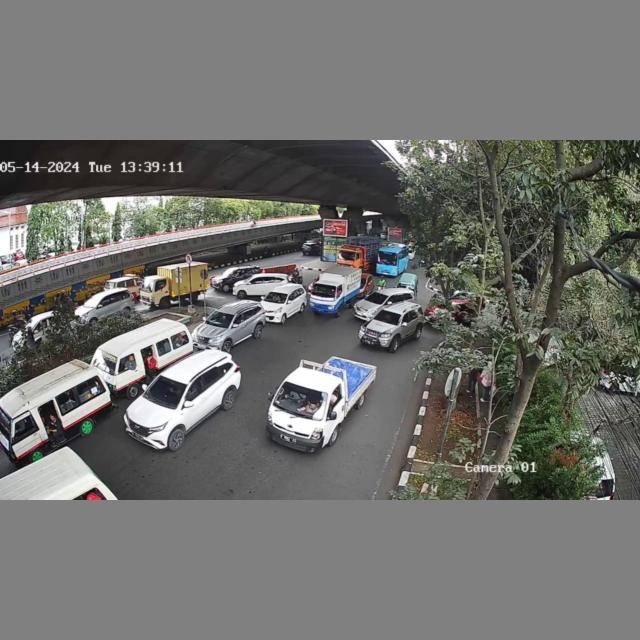windshield: (274, 381, 328, 418), (143, 375, 187, 407), (90, 349, 119, 375), (204, 309, 233, 328), (373, 309, 404, 326), (312, 282, 336, 300), (263, 291, 288, 304), (366, 291, 386, 302)
